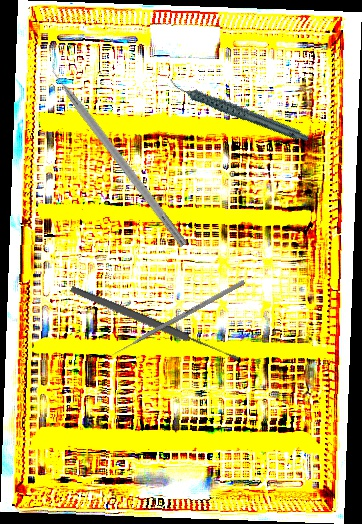Chopper: (41, 50, 198, 248)
Handpiece: (167, 52, 310, 168)
Pusher: (106, 279, 246, 360)
Surgical Spoon: (69, 284, 240, 364)
